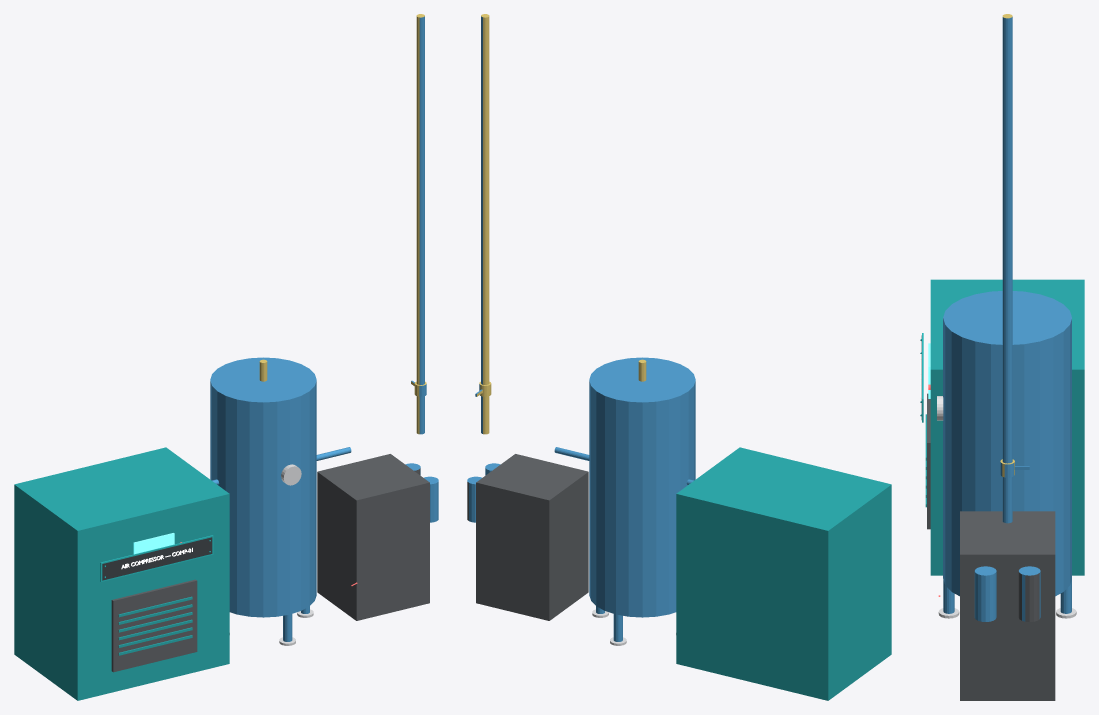
File: comp_01.glb
3 views of the same model, side by side, from view 1: azimuth 30°, elevation 25°; view 2: azimuth 150°, elevation 25°; view 3: azimuth 270°, elevation 25° (orthographic). The views are drawn at different scales.
Visible parts, largest first — view 1: COMP_Compressor_Cabinet, COMP_Air_Receiver_Tank, COMP_Refrigerated_Dryer, COMP_Discharge_Piping, Plaque_COMP_01_Plate; view 2: COMP_Compressor_Cabinet, COMP_Air_Receiver_Tank, COMP_Refrigerated_Dryer, COMP_Discharge_Piping; view 3: COMP_Air_Receiver_Tank, COMP_Refrigerated_Dryer, COMP_Compressor_Cabinet, COMP_Discharge_Piping.
Boxes of the visible parts, <box> form: COMP_Compressor_Cabinet: <box>14,447,229,700</box>; COMP_Air_Receiver_Tank: <box>210,357,316,645</box>; COMP_Refrigerated_Dryer: <box>317,454,438,620</box>; COMP_Discharge_Piping: <box>212,14,426,484</box>; Plaque_COMP_01_Plate: <box>102,537,212,580</box>; COMP_Compressor_Cabinet: <box>676,447,891,700</box>; COMP_Air_Receiver_Tank: <box>589,357,695,645</box>; COMP_Refrigerated_Dryer: <box>467,454,588,620</box>; COMP_Discharge_Piping: <box>475,14,693,484</box>; COMP_Air_Receiver_Tank: <box>937,291,1076,618</box>; COMP_Refrigerated_Dryer: <box>960,511,1055,700</box>; COMP_Compressor_Cabinet: <box>925,279,1084,575</box>; COMP_Discharge_Piping: <box>1000,14,1029,523</box>.
Size of the model in its own units: 3.65 by 5.2 by 1.12.
